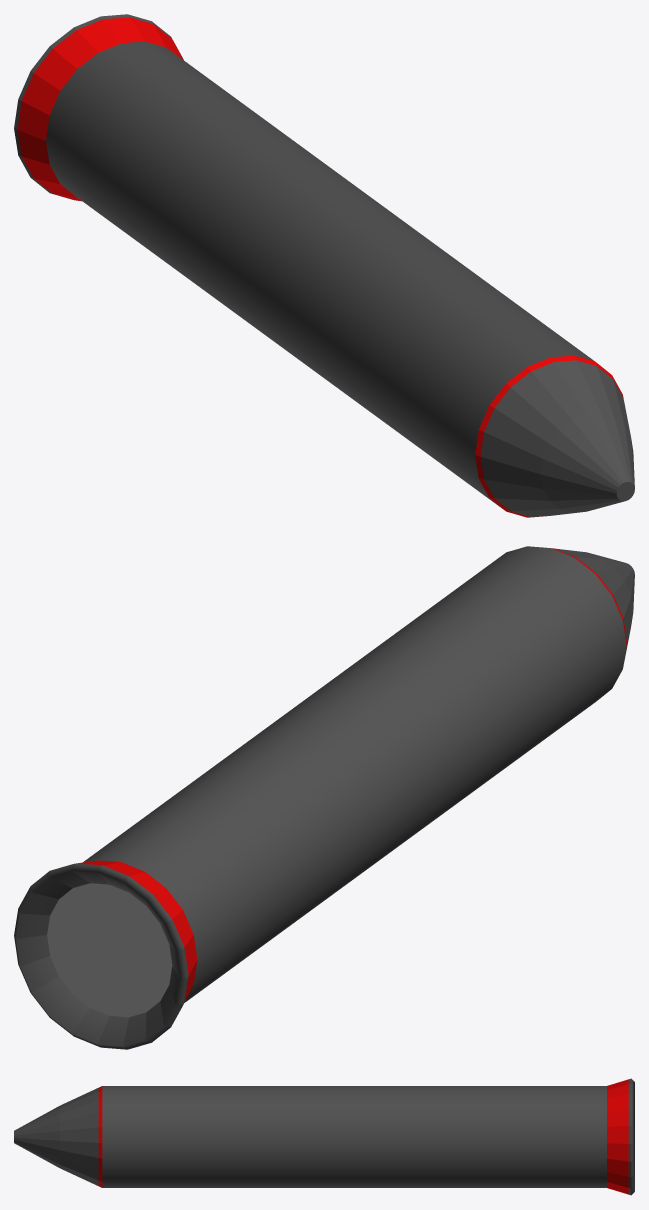
File: Missle.fbx
The picture shows the model from 3 angles, top to bottom: view 1: azimuth 30°, elevation 25°; view 2: azimuth 150°, elevation 25°; view 3: azimuth 270°, elevation 25°; orthographic projection. The views are drawn at different scales.
Visible parts, largest first — view 1: pCylinder3; view 2: pCylinder3; view 3: pCylinder3.
Part boxes in pixels (box(x1,y1,x2,y2)): pCylinder3: box(14, 14, 634, 517); pCylinder3: box(14, 546, 634, 1049); pCylinder3: box(14, 1078, 634, 1195).
Bounding box in the file's own units: 0.149 × 0.7848 × 0.149.
